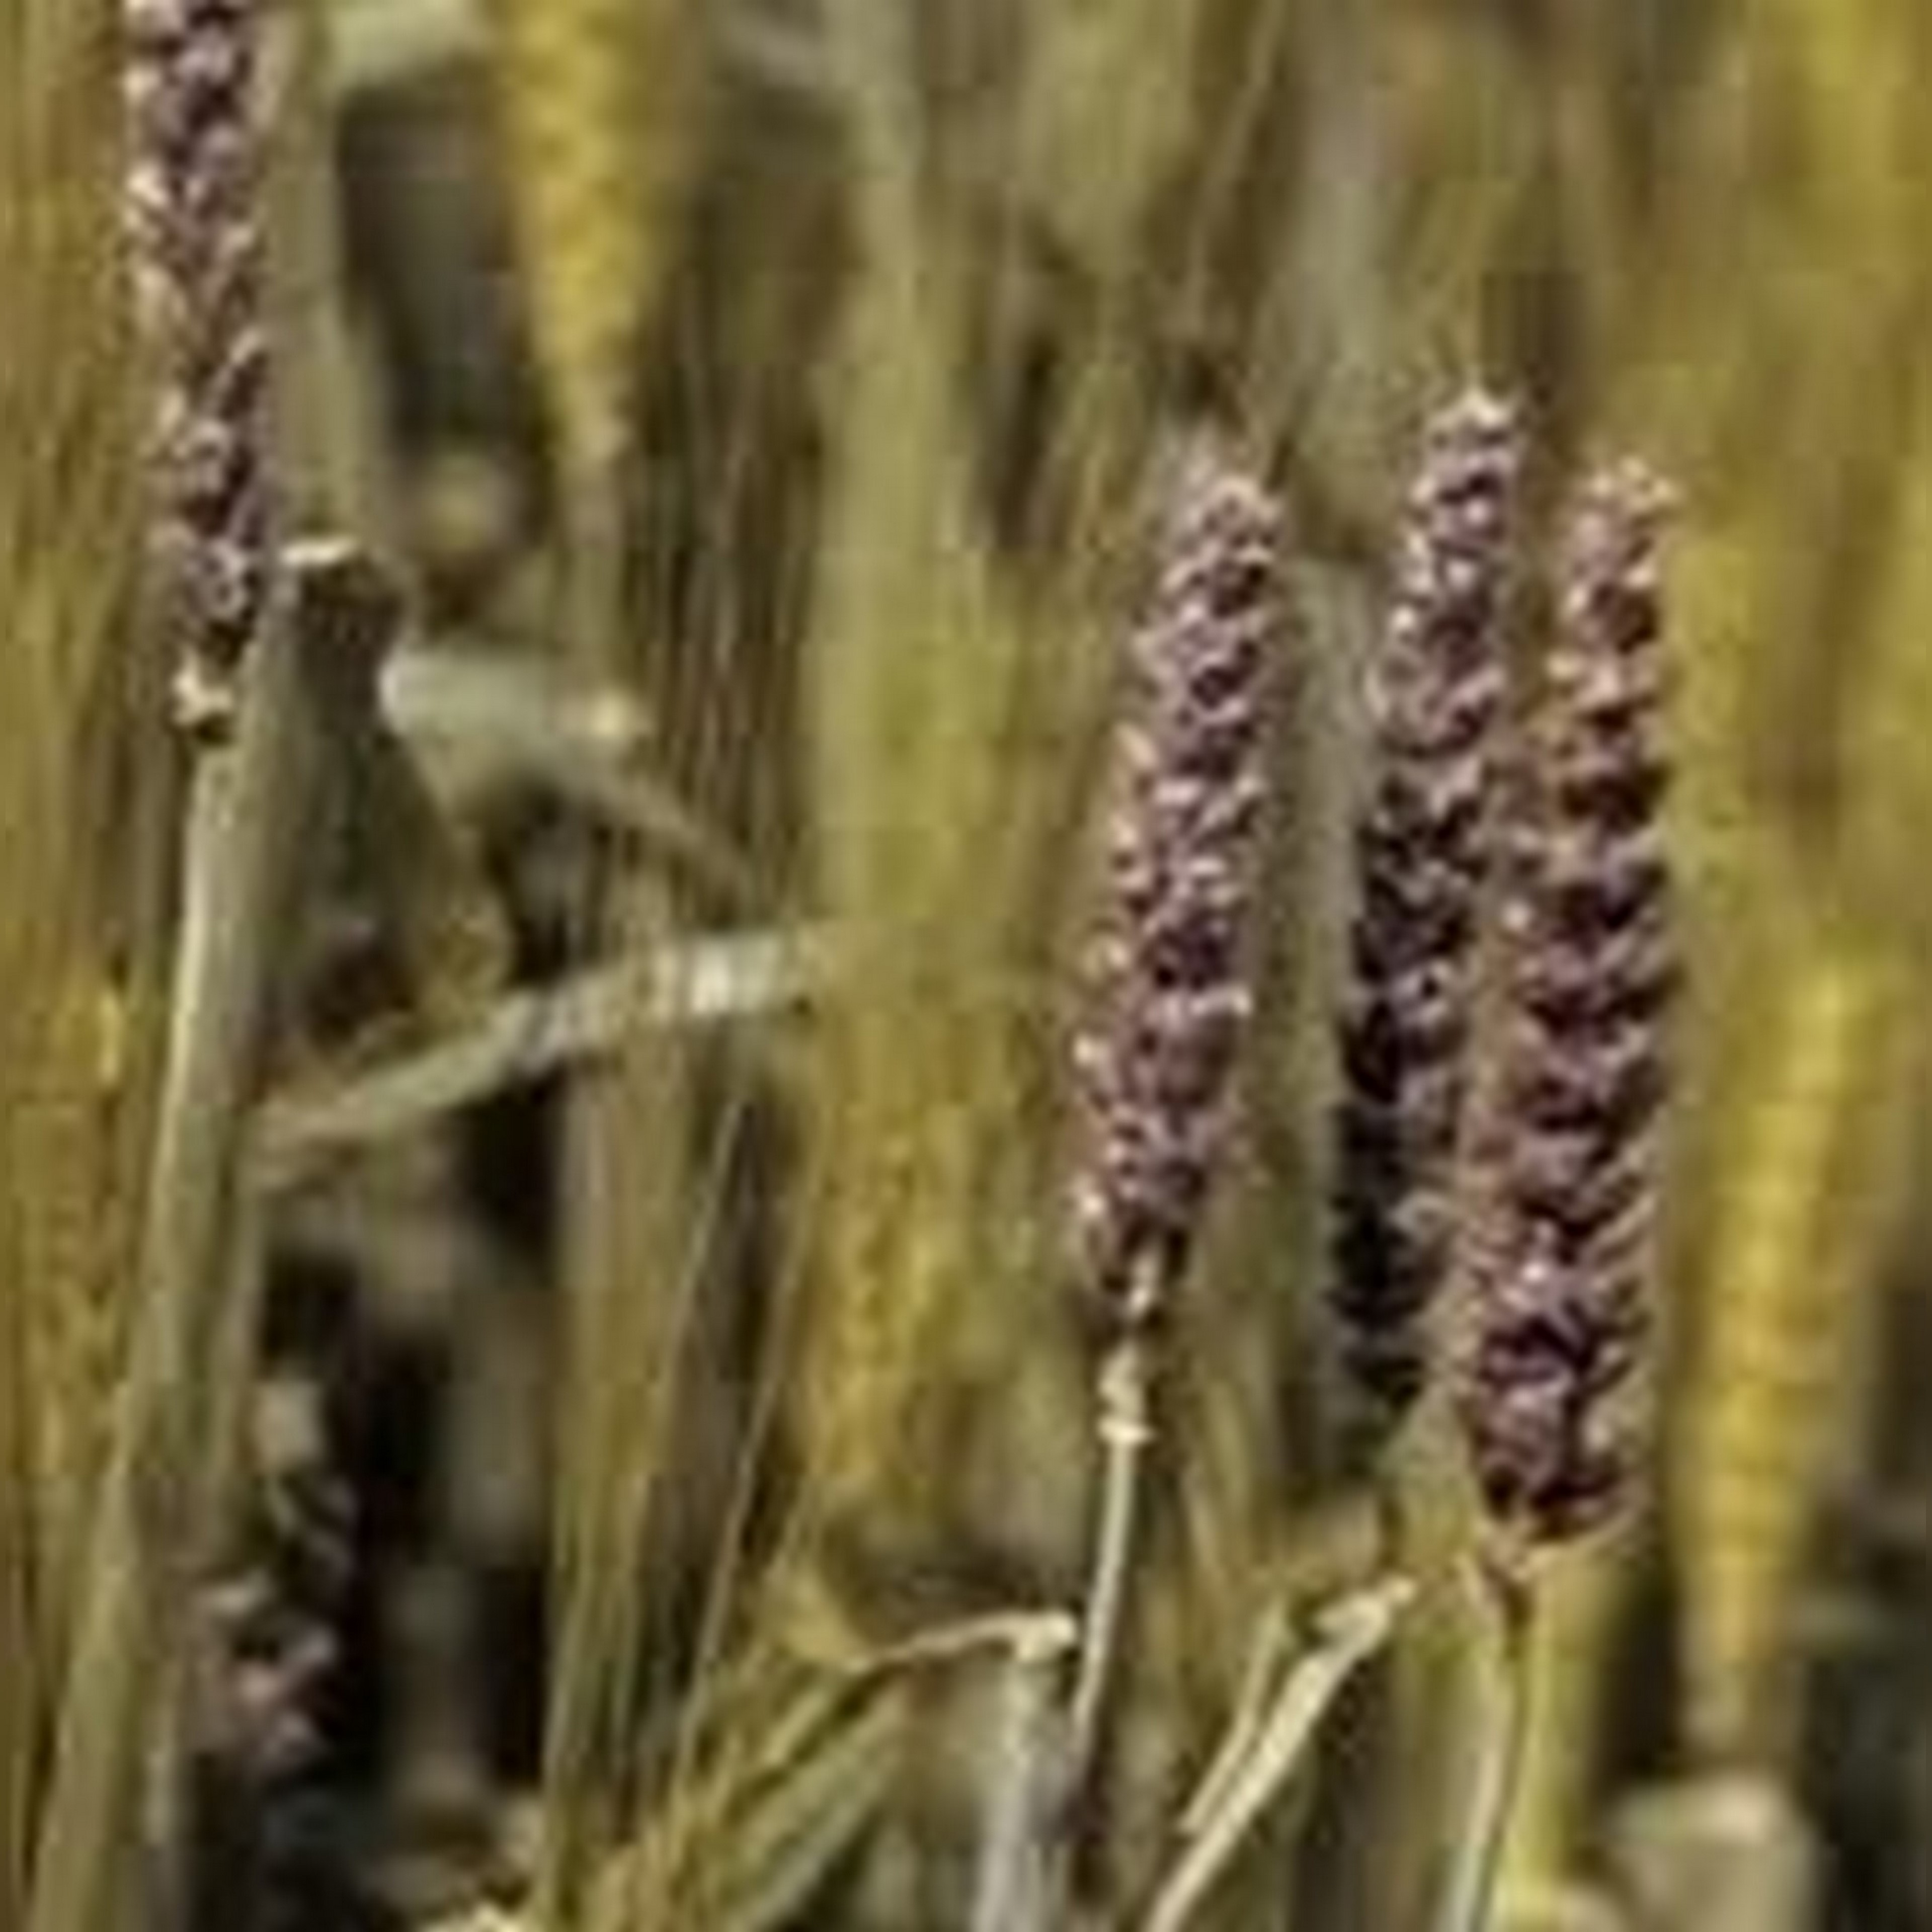Wheat Loose Smut: (1021, 324, 1704, 1576)
